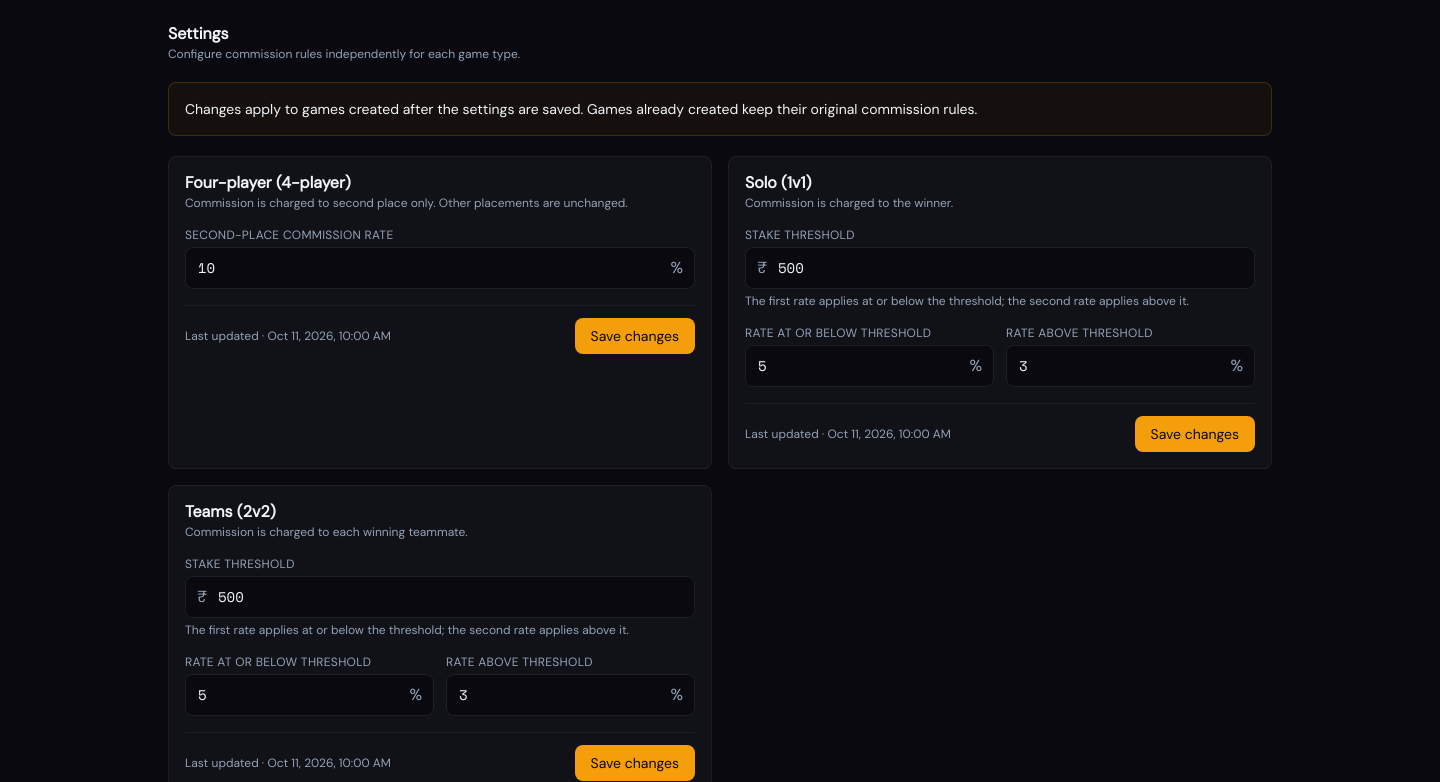
Test: AdminSettingsView › shows independent settings for each game type and saves only the selected type
Step 1. Replace the text in the field with id "high-ONE_V_ONE" with "6.25" → (870, 366), box [745, 345, 994, 387]
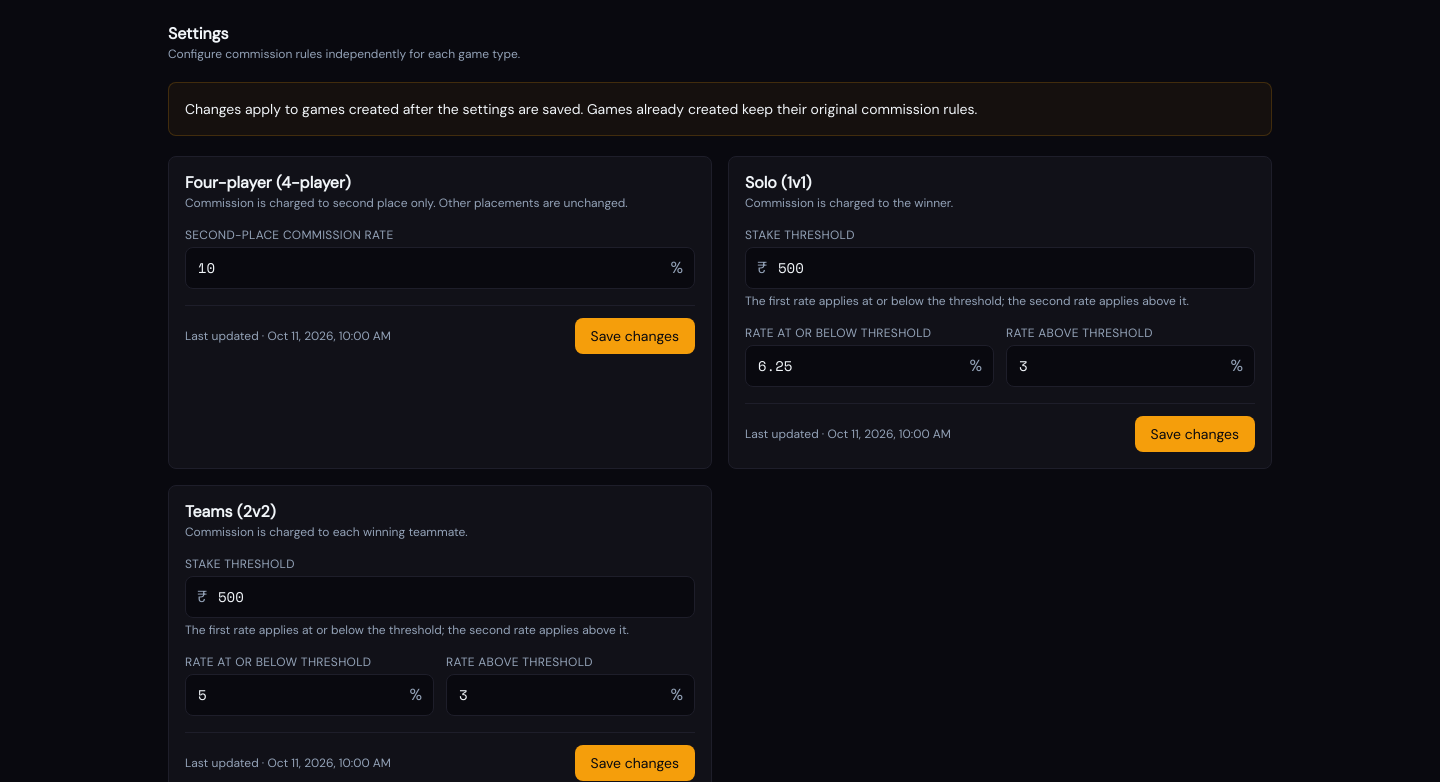
Step 2. Submit the form with id "form-ONE_V_ONE", box [745, 227, 1255, 452]
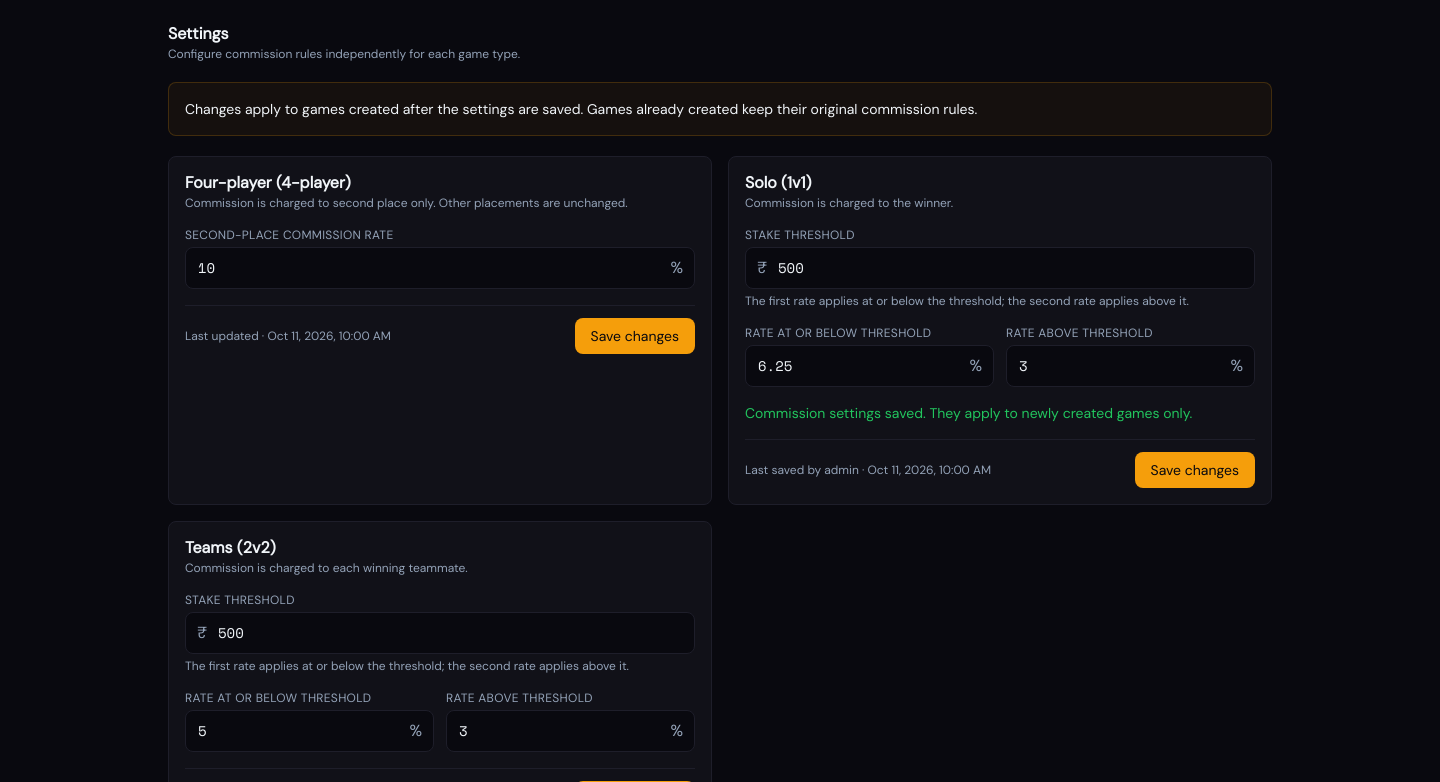
Check: the text "Commission settings saved." is shown, box [745, 404, 1192, 422]
